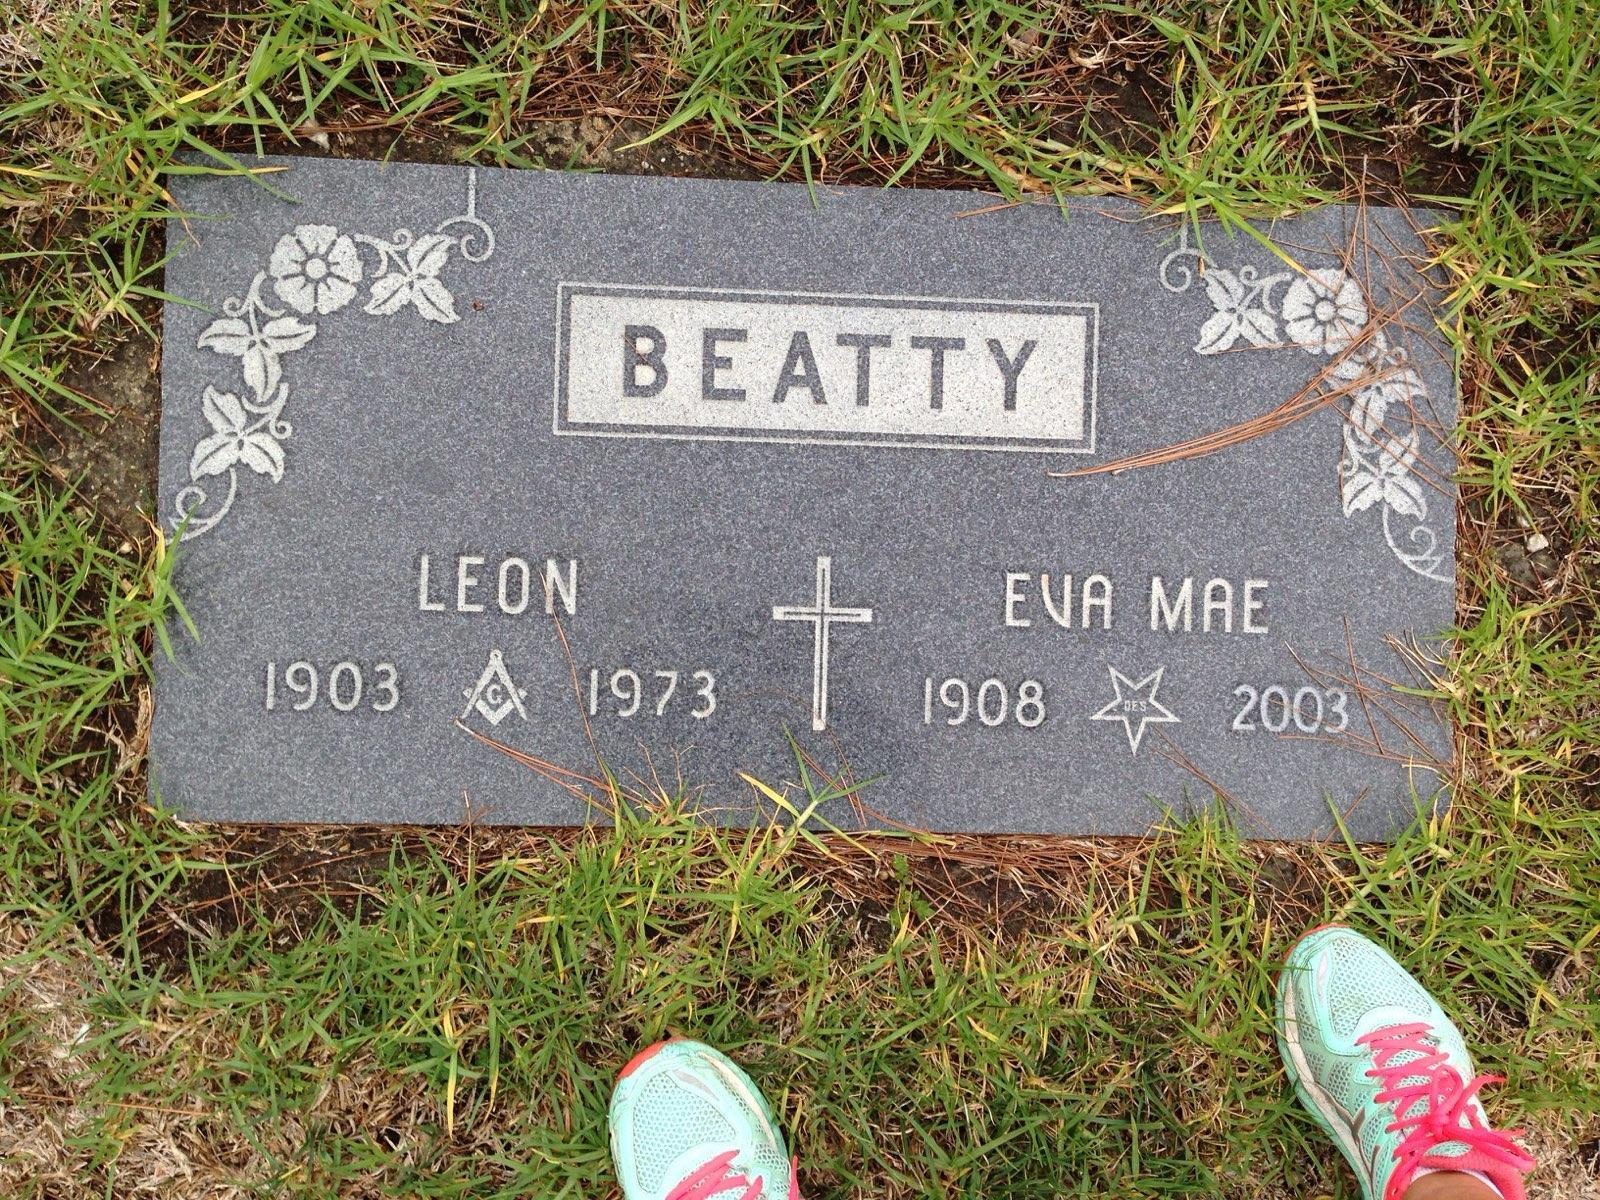flat: (140, 118, 1490, 884)
